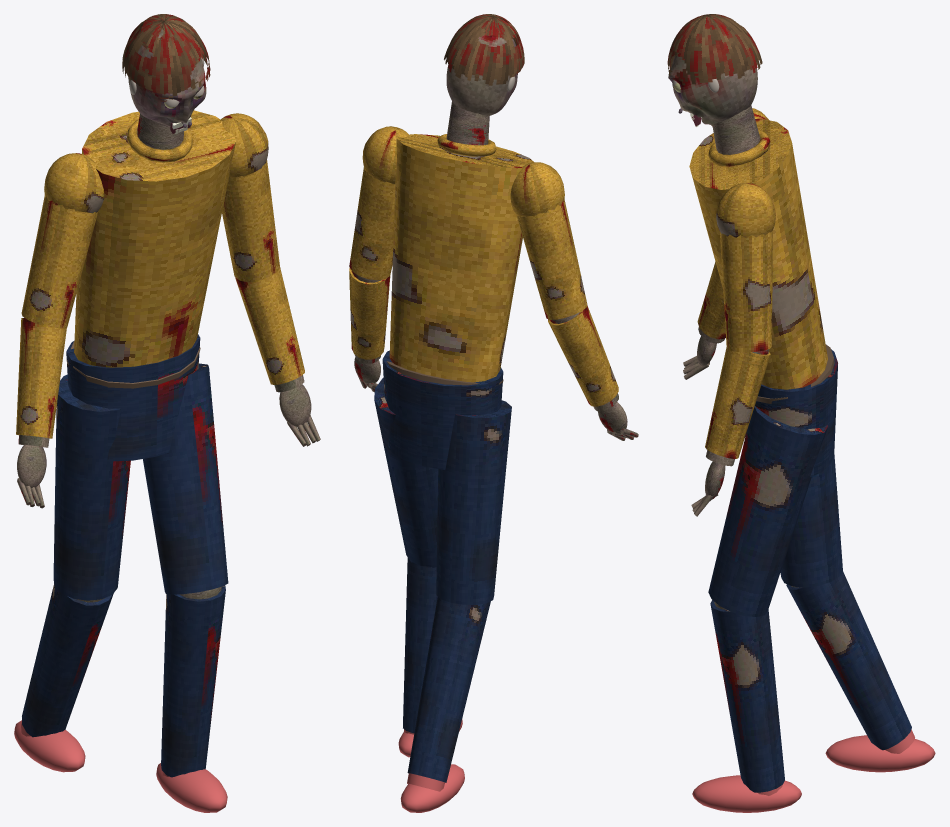
File: Zombie_011.glb
The picture shows the model from 3 angles, left to right: view 1: azimuth 30°, elevation 25°; view 2: azimuth 150°, elevation 25°; view 3: azimuth 270°, elevation 25°; orthographic projection. The views are drawn at different scales.
Parts seen in each view (by area): view 1: Zombie_011, object 43, object 4, object 12, object 18, object 5, object 13; view 2: Zombie_011, object 43, object 4, object 12, object 18, object 5; view 3: Zombie_011, object 12, object 43, object 18, object 4, object 13, object 42.
Boxes of the visible parts, left/top/right/bottom form: Zombie_011: left=14, top=110, right=279, bottom=812; object 43: left=122, top=14, right=210, bottom=98; object 4: left=16, top=318, right=66, bottom=438; object 12: left=235, top=267, right=304, bottom=384; object 18: left=128, top=29, right=206, bottom=126; object 5: left=17, top=445, right=46, bottom=487; object 13: left=279, top=384, right=311, bottom=426; Zombie_011: left=349, top=101, right=587, bottom=812; object 43: left=444, top=14, right=524, bottom=82; object 4: left=548, top=305, right=618, bottom=406; object 12: left=349, top=268, right=390, bottom=359; object 18: left=446, top=35, right=517, bottom=115; object 5: left=598, top=402, right=627, bottom=434; Zombie_011: left=689, top=105, right=935, bottom=812; object 12: left=705, top=347, right=770, bottom=458; object 43: left=667, top=14, right=762, bottom=81; object 18: left=668, top=55, right=757, bottom=126; object 4: left=697, top=261, right=725, bottom=339; object 13: left=705, top=461, right=725, bottom=499; object 42: left=669, top=51, right=760, bottom=85.
Size of the model in its own units: 0.7989 by 2.06 by 0.6487.
16 materials, 6 textured.
